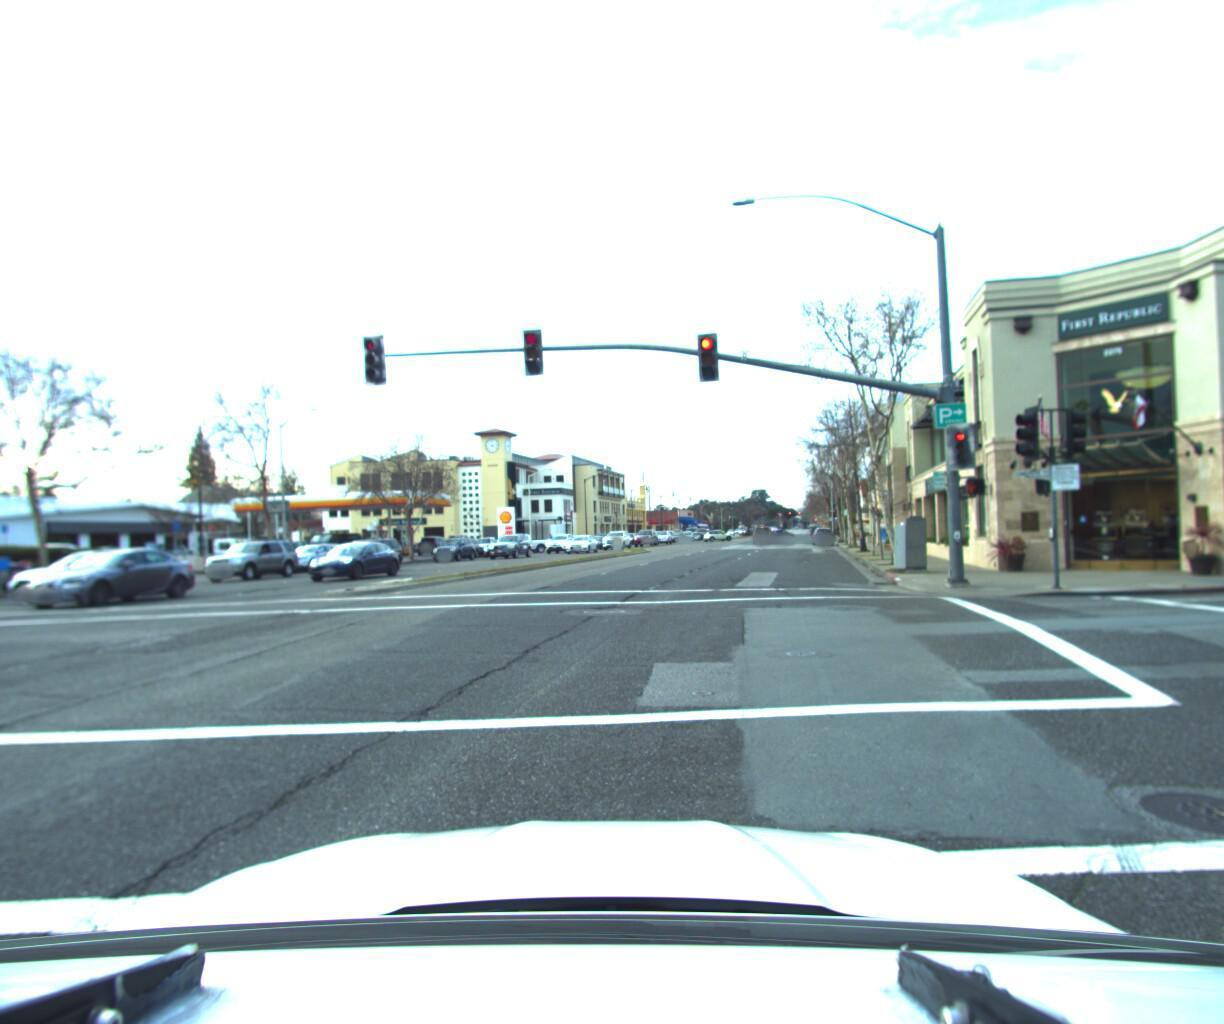car: (8, 545, 206, 612), (206, 538, 308, 584), (301, 542, 405, 584), (25, 542, 105, 579), (273, 542, 348, 579), (106, 545, 178, 576), (211, 538, 271, 571), (118, 541, 196, 566), (430, 531, 480, 562), (485, 531, 535, 559), (502, 529, 562, 551), (466, 536, 506, 559), (414, 535, 457, 556), (543, 531, 579, 553), (562, 531, 599, 553), (600, 529, 632, 550), (810, 524, 833, 545), (750, 523, 774, 541)
